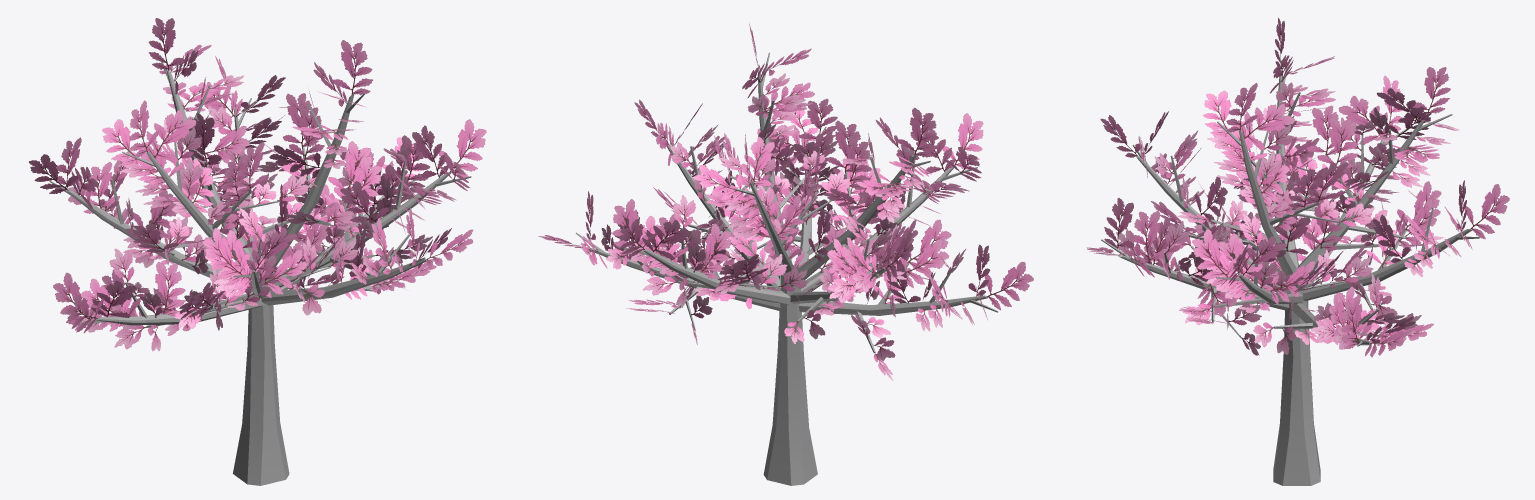
Rendered from Tree_FBX.fbx.
The picture shows the model from 3 angles, left to right: view 1: azimuth 30°, elevation 25°; view 2: azimuth 150°, elevation 25°; view 3: azimuth 270°, elevation 25°; orthographic projection. The views are drawn at different scales.
Visible parts, largest first — view 1: Branc06, Branc02, Branc010, Branc07, Branc08, Branc09, TreeBase, Branc04, Branc05, Branc03, Branc01; view 2: Branc01, Branc02, Branc06, Branc05, TreeBase, Branc07, Branc08, Branc09, Branc04, Branc010, Branc03; view 3: Branc07, Branc05, Branc010, Branc01, Branc04, Branc03, TreeBase, Branc08, Branc09, Branc06, Branc02.
Part boxes in pixels (x1,y1,x2,y2): Branc06: (102, 100, 310, 270); Branc02: (53, 248, 269, 351); Branc010: (275, 119, 486, 289); Branc07: (258, 40, 373, 272); Branc08: (29, 137, 252, 292); Branc09: (174, 208, 359, 330); TreeBase: (233, 265, 289, 485); Branc04: (260, 202, 473, 315); Branc05: (148, 18, 253, 257); Branc03: (245, 135, 430, 289); Branc01: (160, 56, 312, 257); Branc01: (612, 195, 808, 307); Branc02: (798, 219, 1033, 380); Branc06: (797, 107, 938, 282); Branc05: (693, 134, 850, 294); TreeBase: (763, 274, 817, 485); Branc07: (708, 23, 825, 280); Branc08: (784, 215, 917, 343); Branc09: (793, 113, 983, 291); Branc04: (713, 98, 884, 275); Branc010: (634, 99, 780, 289); Branc03: (538, 191, 780, 344); Branc07: (1177, 83, 1374, 286); Branc05: (1267, 67, 1459, 274); Branc010: (1183, 213, 1373, 329); Branc01: (1303, 180, 1509, 329); Branc04: (1086, 198, 1289, 355); Branc03: (1253, 273, 1433, 357); TreeBase: (1273, 285, 1320, 485); Branc08: (1237, 75, 1431, 282); Branc09: (1100, 111, 1285, 292); Branc06: (1233, 18, 1335, 277); Branc02: (1194, 130, 1342, 278).
Bounding box in the file's own units: 16.71 × 15.31 × 14.65.
